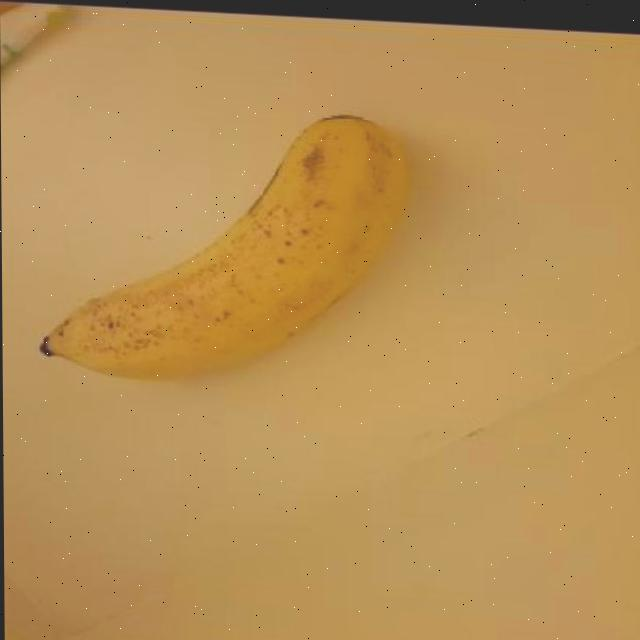banana: (25, 84, 421, 404)
